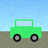vehicle: (10, 19, 41, 42)
